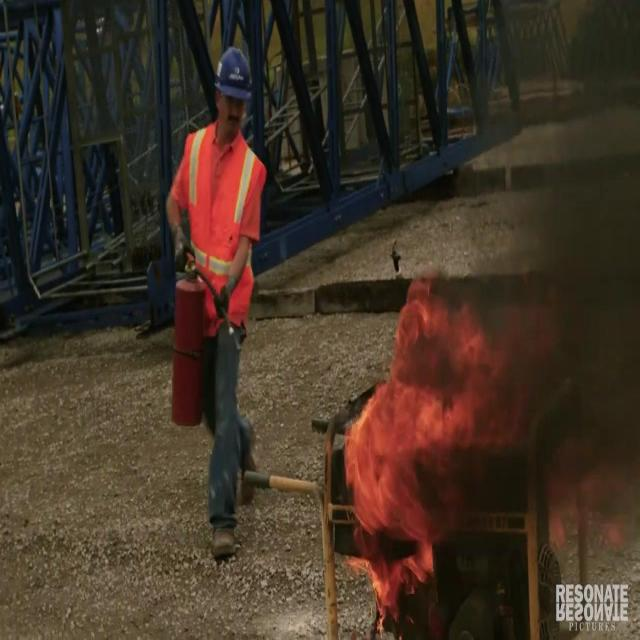Vest: (180, 122, 267, 322)
